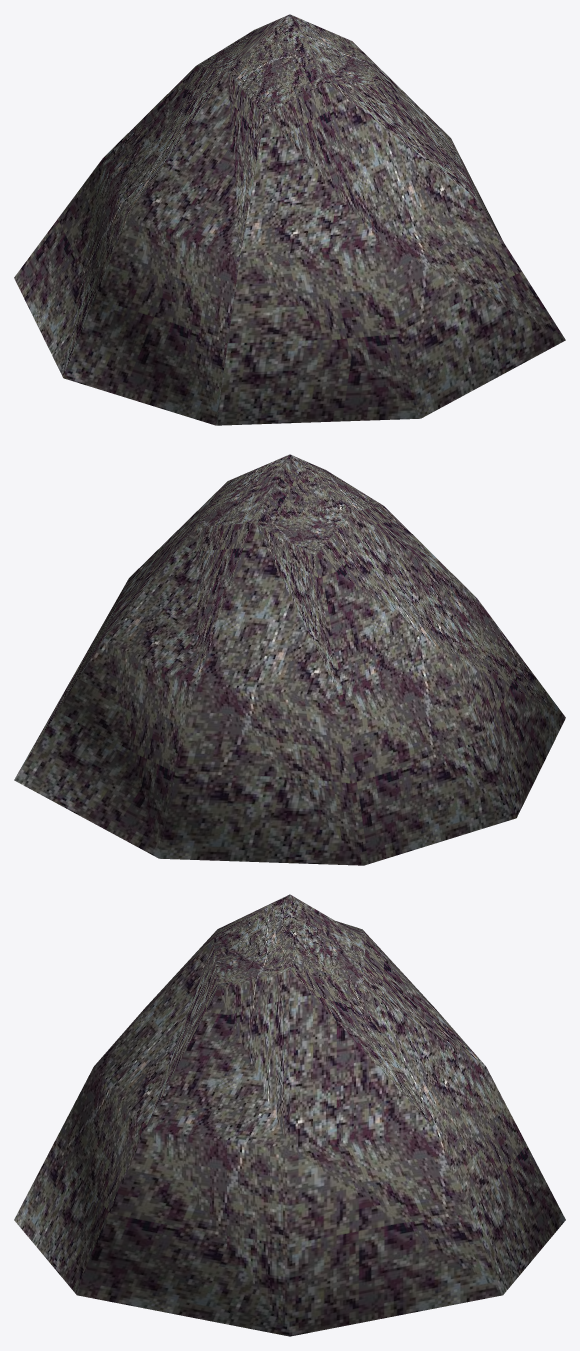
File: mountain.glb
3 views of the same model, one above another, from view 1: azimuth 30°, elevation 25°; view 2: azimuth 150°, elevation 25°; view 3: azimuth 270°, elevation 25° (orthographic). The views are drawn at different scales.
Parts seen in each view (by area): view 1: Cube; view 2: Cube; view 3: Cube.
Boxes of the visible parts, left/top/right/bottom form: Cube: left=14, top=14, right=565, bottom=425; Cube: left=14, top=454, right=565, bottom=865; Cube: left=14, top=894, right=565, bottom=1336.
Size of the model in its own units: 19.56 by 13.88 by 19.56.
Materials: 1 (1 with a texture image).
